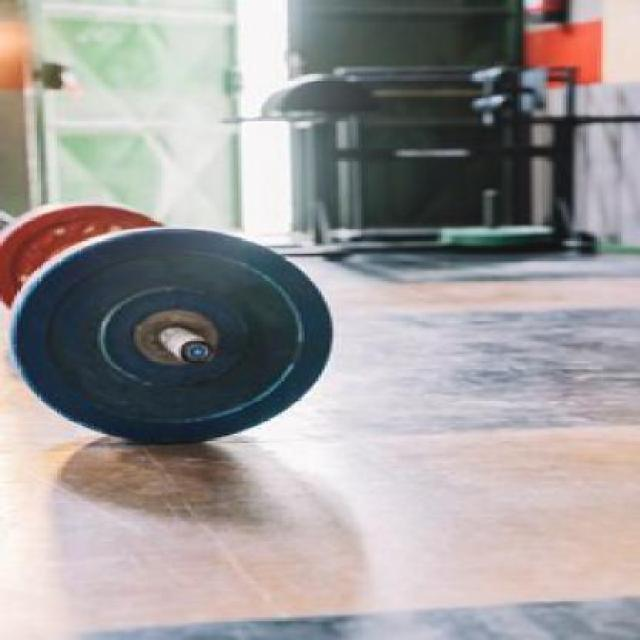barbell: (6, 221, 339, 449)
